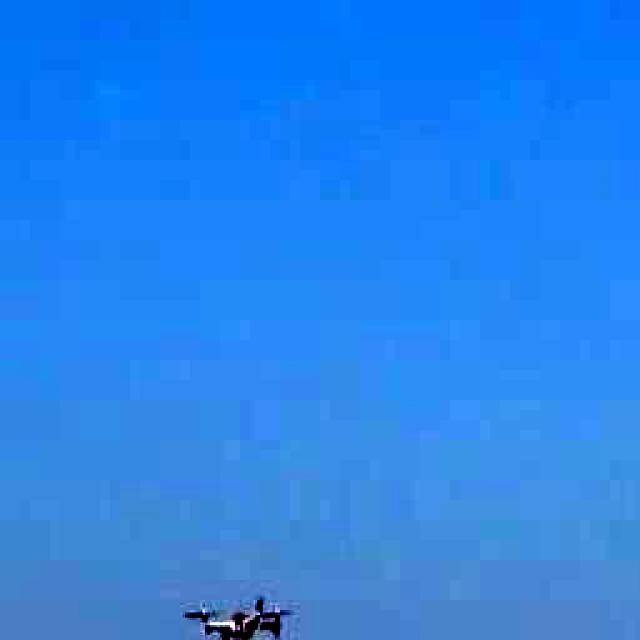bird: (186, 579, 296, 640)
